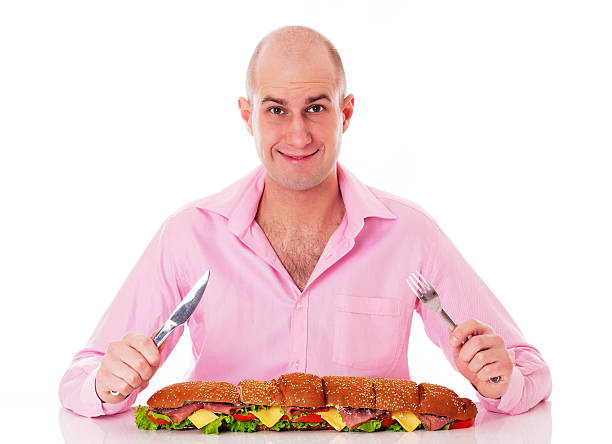knife: (110, 271, 212, 398)
